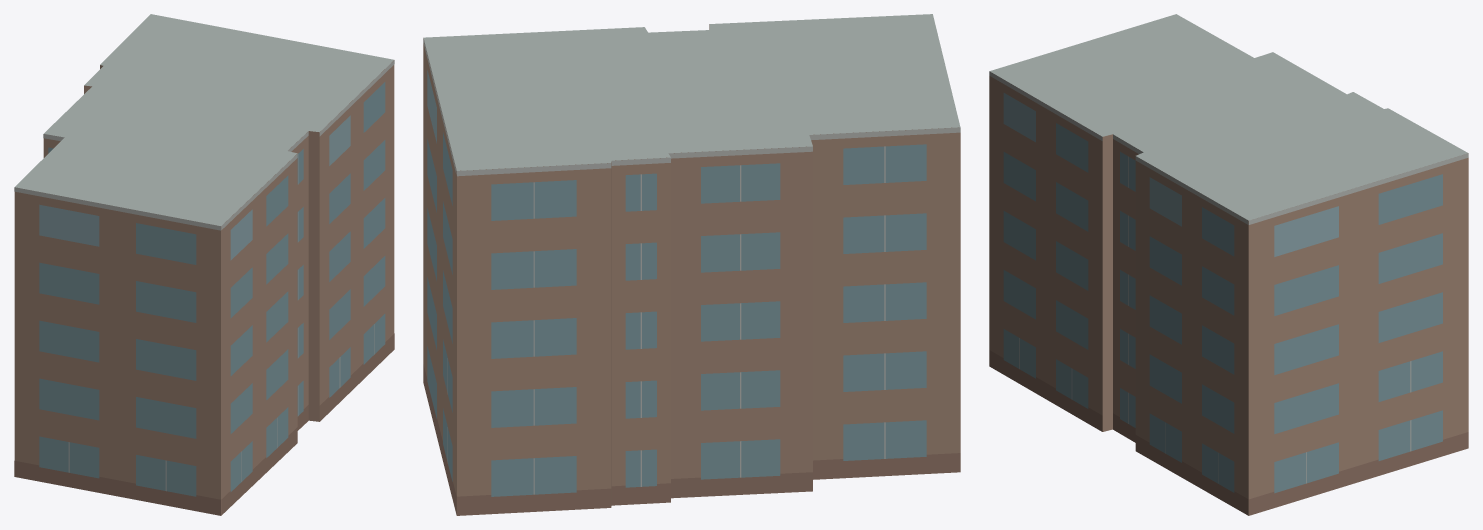
Rendered from survey-upis-32719404.glb.
The picture shows the model from 3 angles, left to right: view 1: azimuth 30°, elevation 25°; view 2: azimuth 150°, elevation 25°; view 3: azimuth 270°, elevation 25°; orthographic projection. The views are drawn at different scales.
Visible parts, largest first — view 1: survey-upis-32719404.tmp; view 2: survey-upis-32719404.tmp; view 3: survey-upis-32719404.tmp.
Part boxes in pixels (box(x1,y1,x2,y2)): survey-upis-32719404.tmp: box(14, 14, 394, 515); survey-upis-32719404.tmp: box(423, 14, 960, 515); survey-upis-32719404.tmp: box(989, 14, 1468, 515).
Size of the model in its own units: 23.88 by 15.9 by 23.39.
